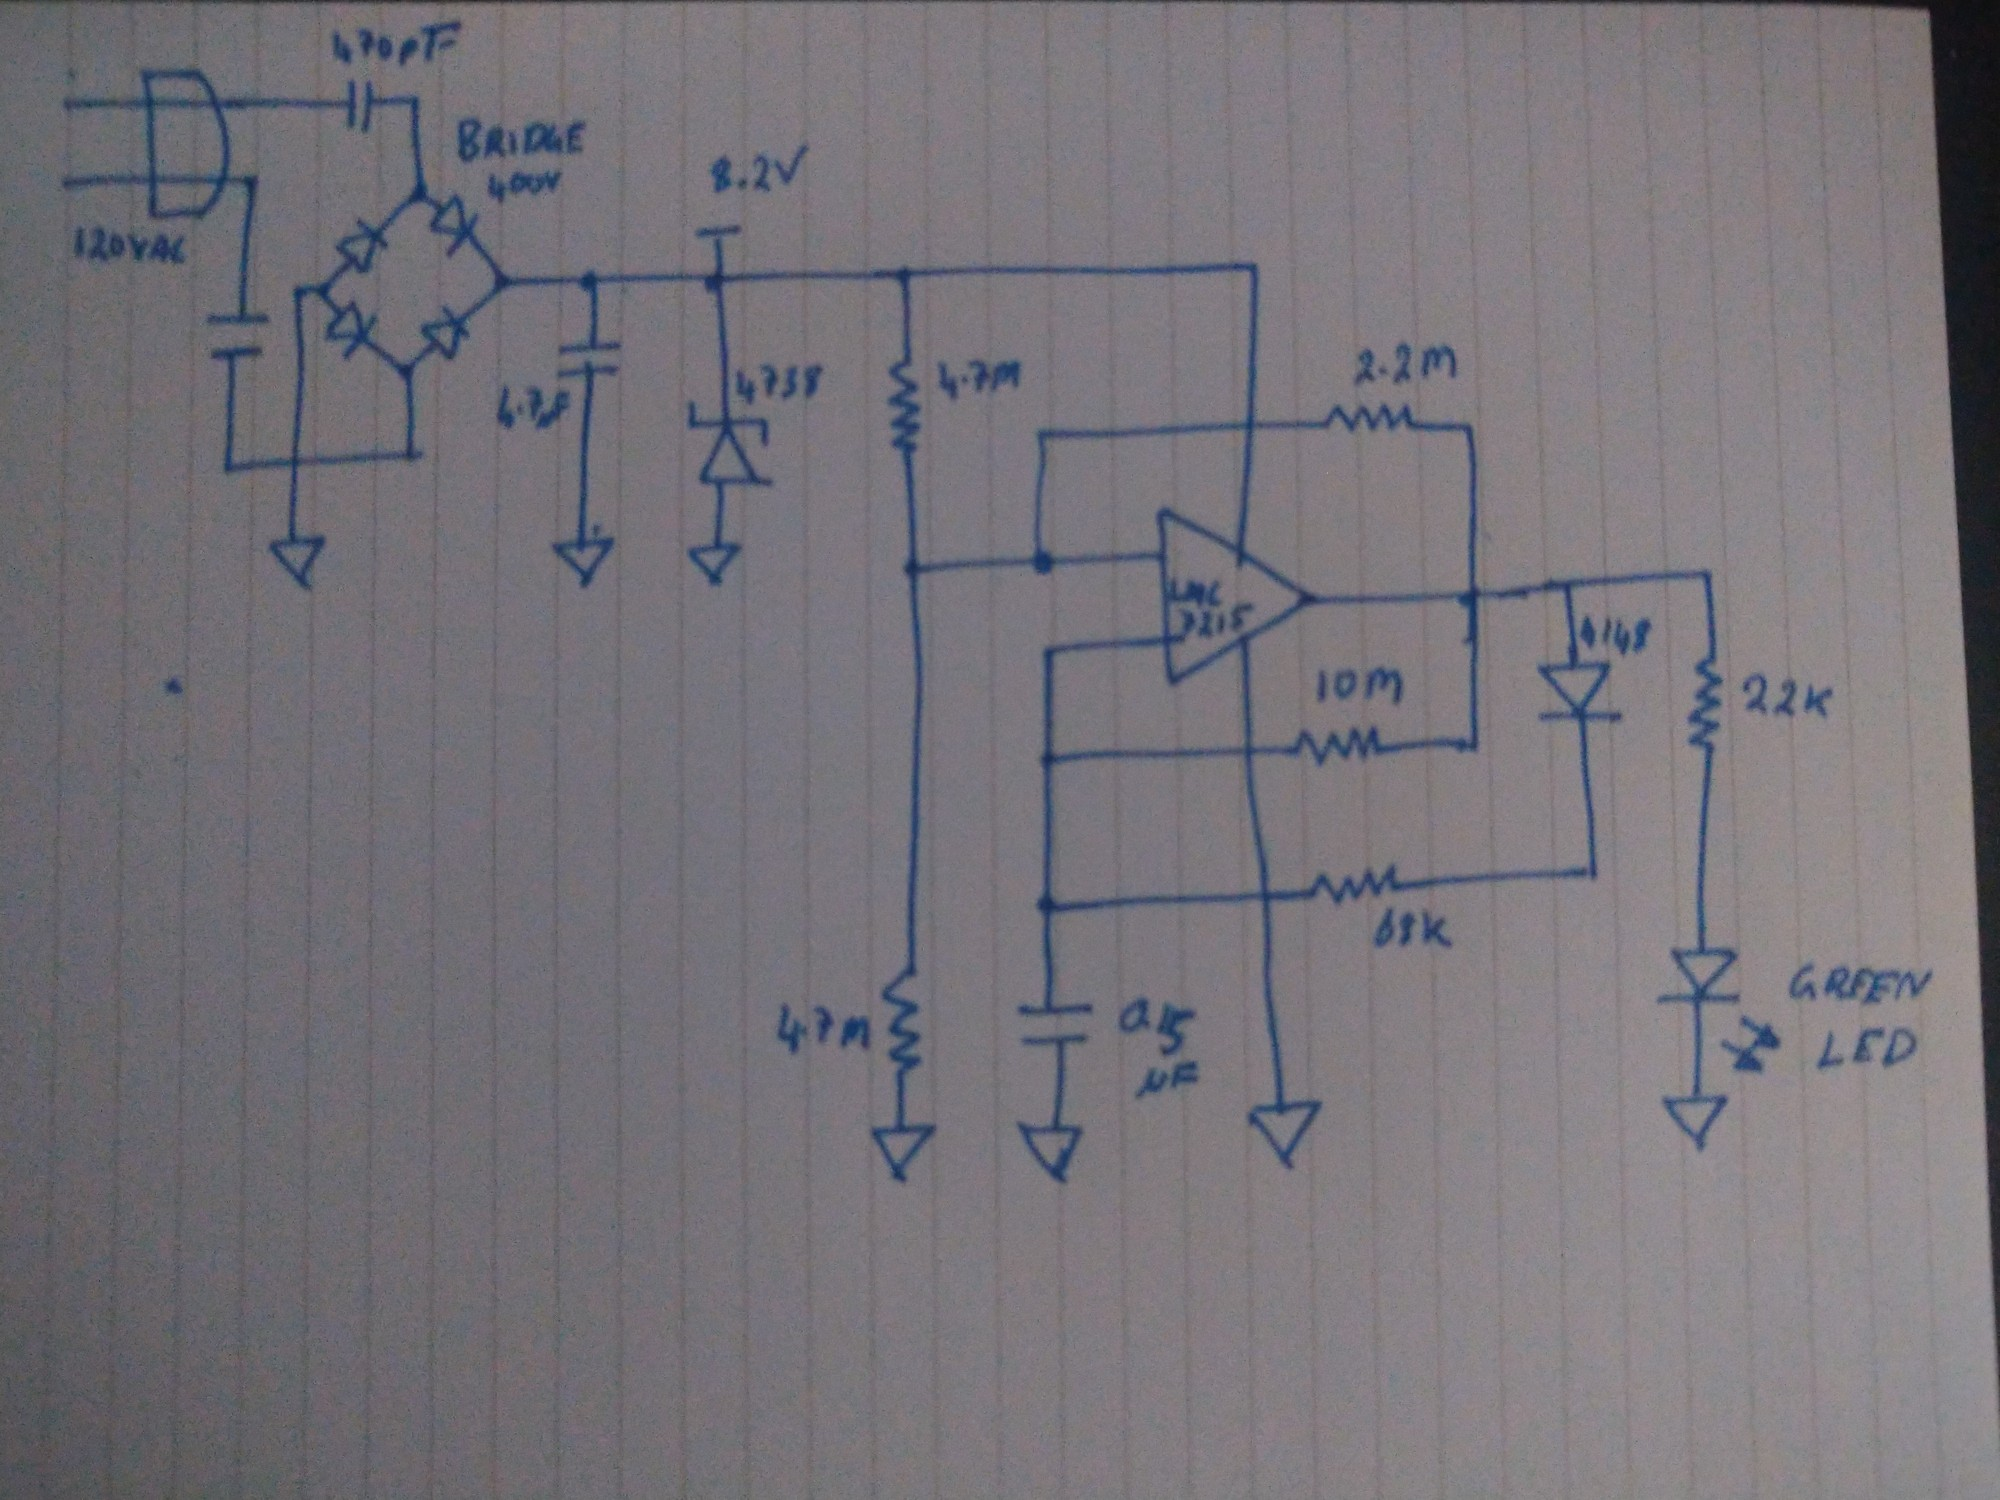capacitor.unpolarized: (1008, 997, 1098, 1053), (198, 310, 272, 369), (554, 340, 627, 381), (343, 79, 376, 134)
crossover: (1235, 411, 1268, 433), (1250, 882, 1280, 906), (1236, 741, 1261, 763), (285, 454, 306, 473)
diode: (683, 400, 775, 490), (1534, 662, 1630, 725), (321, 299, 380, 359), (430, 195, 483, 258), (334, 217, 391, 276), (420, 306, 476, 362)
diode.light_emitting: (1654, 947, 1784, 1076)
gnd: (1246, 1098, 1324, 1172), (1013, 1116, 1090, 1190), (868, 1123, 937, 1182), (1661, 1093, 1731, 1152), (265, 536, 331, 591), (550, 537, 620, 588), (680, 544, 745, 588)
junction: (1028, 548, 1058, 578), (699, 268, 731, 296), (1458, 585, 1490, 610), (890, 265, 920, 290), (1031, 890, 1061, 915), (896, 556, 924, 581), (491, 266, 517, 293), (576, 269, 603, 295), (1551, 574, 1581, 596), (400, 443, 425, 466), (1036, 747, 1061, 770), (406, 183, 428, 208), (1583, 859, 1605, 884), (1691, 562, 1717, 585), (395, 359, 417, 381), (1461, 736, 1487, 755), (217, 459, 239, 479), (239, 173, 260, 192), (1244, 258, 1263, 279), (1038, 640, 1058, 659), (290, 284, 310, 303), (1458, 422, 1480, 440), (405, 91, 424, 109), (313, 279, 331, 298), (1033, 425, 1052, 443)
operational_amplifier: (1153, 511, 1320, 689)
resistor: (880, 966, 931, 1078), (1309, 860, 1402, 908), (1291, 725, 1386, 767), (887, 358, 928, 455), (1685, 654, 1724, 752), (1324, 402, 1416, 436)
socket: (139, 65, 231, 221)
terminal: (693, 221, 742, 244), (50, 172, 80, 195), (50, 95, 80, 117)
text: (1112, 989, 1203, 1105), (328, 17, 465, 71), (1787, 964, 1932, 1008), (457, 117, 587, 165), (69, 225, 194, 271), (772, 1001, 874, 1056), (1167, 575, 1257, 637), (709, 143, 809, 197), (1350, 340, 1460, 389), (1740, 670, 1839, 722), (1372, 901, 1465, 953), (1816, 1026, 1918, 1068), (1315, 663, 1406, 707), (734, 362, 824, 407), (935, 359, 1027, 402), (494, 384, 573, 432), (1580, 614, 1658, 657), (487, 169, 564, 206)
